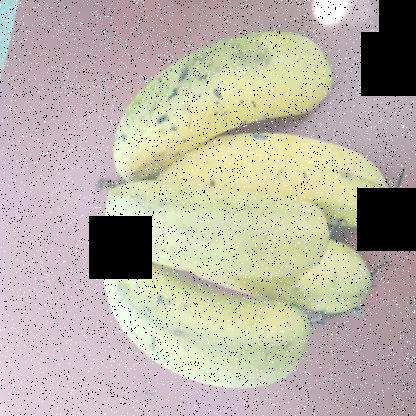ripe: (115, 28, 331, 187), (80, 255, 316, 396), (101, 172, 329, 305), (151, 123, 398, 237), (294, 249, 382, 340)
